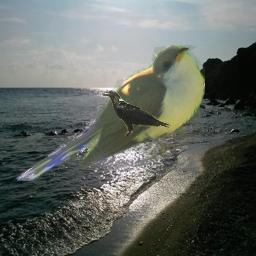Crow: (101, 90, 171, 137)
Cuckoo: (14, 45, 205, 181)
